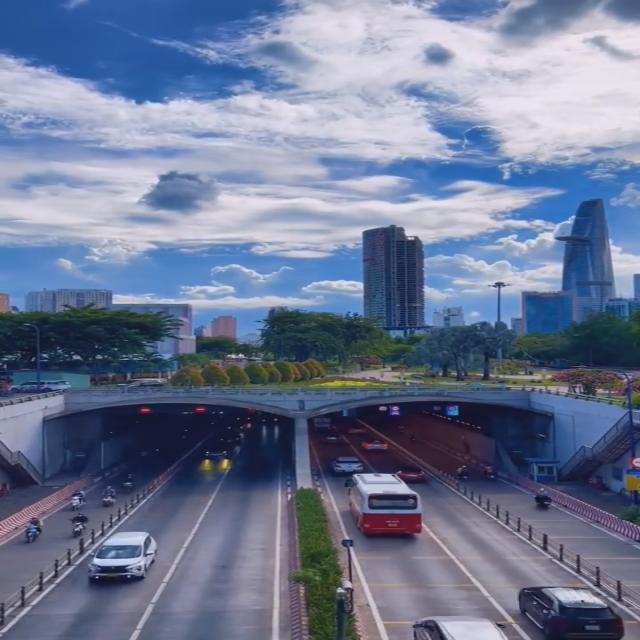bus: (348, 474, 422, 538)
car: (518, 586, 626, 640), (90, 532, 157, 586), (410, 615, 509, 640), (331, 455, 365, 474), (394, 468, 428, 484)
motorbike: (23, 517, 45, 542), (99, 485, 119, 507), (70, 512, 88, 536), (536, 488, 554, 510), (68, 489, 87, 509)
